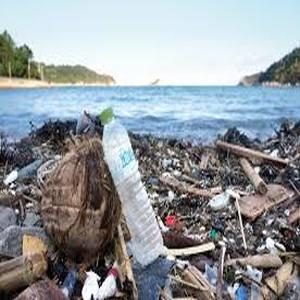Plastic: (97, 104, 165, 268)
